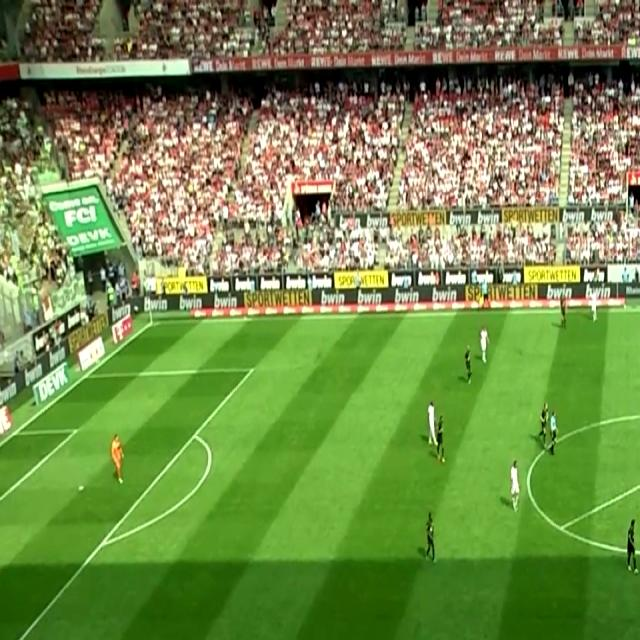goalkeeper: (109, 419, 130, 493)
referee: (548, 404, 562, 460)
soccer-player: (421, 502, 442, 574), (624, 508, 640, 582), (506, 454, 524, 513), (424, 394, 438, 450), (436, 414, 451, 458), (535, 402, 549, 447), (477, 321, 491, 365), (461, 342, 474, 388), (557, 291, 572, 330)
